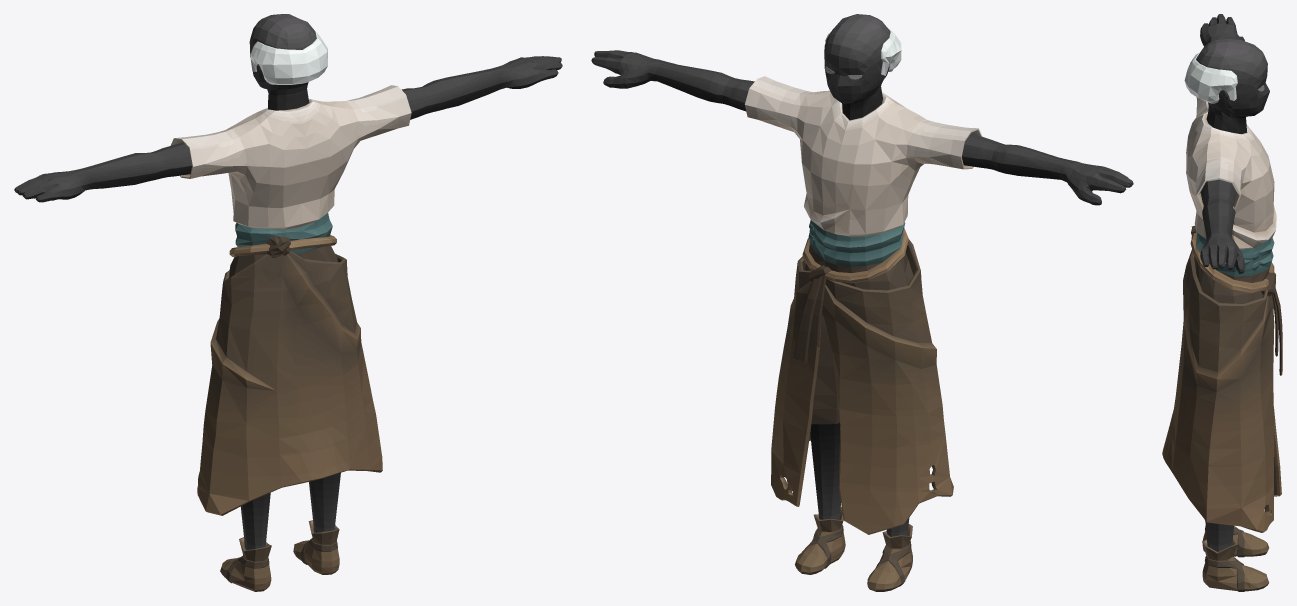
Rendered from NPC_AP27OldMan.glb.
The picture shows the model from 3 angles, left to right: view 1: azimuth 30°, elevation 25°; view 2: azimuth 150°, elevation 25°; view 3: azimuth 270°, elevation 25°; orthographic projection. The views are drawn at different scales.
Parts seen in each view (by area): view 1: NPC_AP27OldMan; view 2: NPC_AP27OldMan; view 3: NPC_AP27OldMan.
Boxes of the visible parts, x1,y1,x2,y2 form: NPC_AP27OldMan: [14, 14, 562, 591]; NPC_AP27OldMan: [591, 14, 1133, 591]; NPC_AP27OldMan: [1162, 14, 1282, 591].
Bounding box in the file's own units: 14.04 × 13.77 × 2.85.
1 material, 1 textured.
